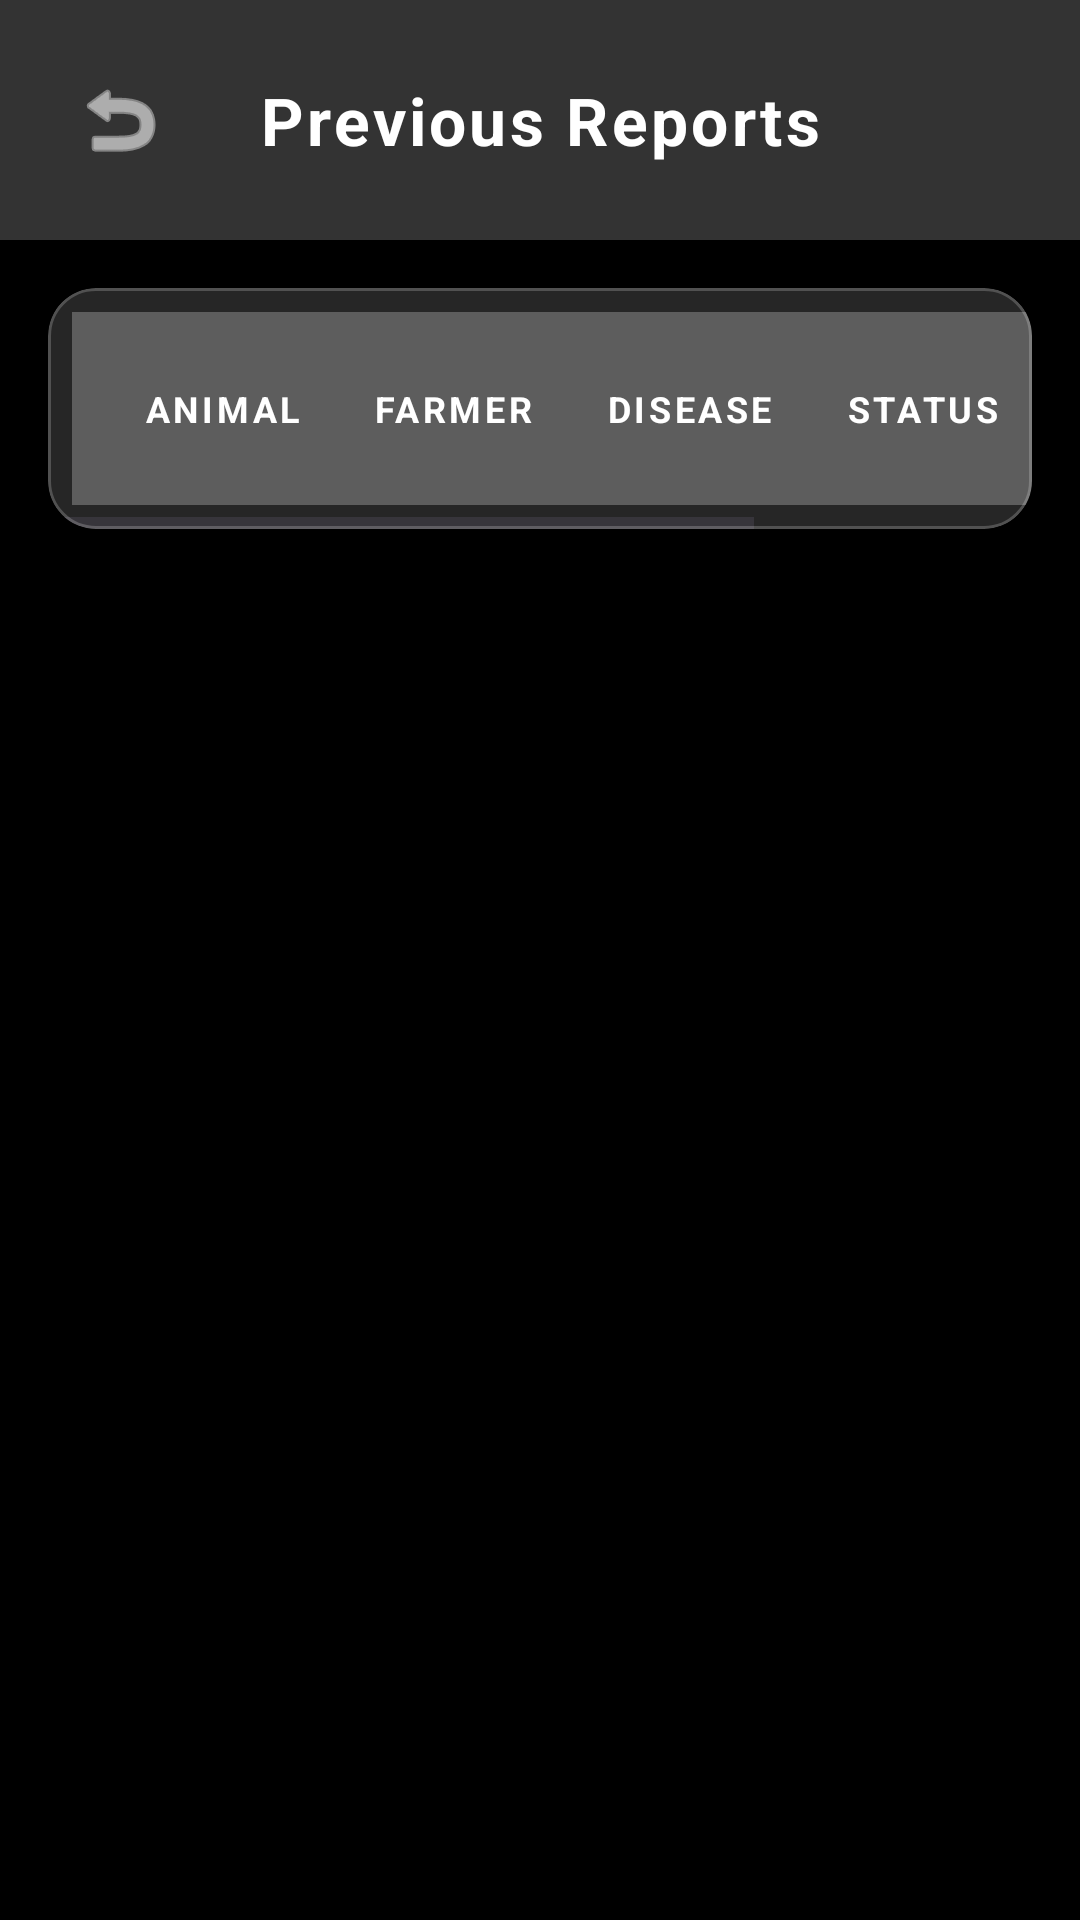

Screen size 1080 x 1920. Icon name, then its box in pixels as (x1, y1, x2, y2):
revert: (87, 89, 156, 152)
